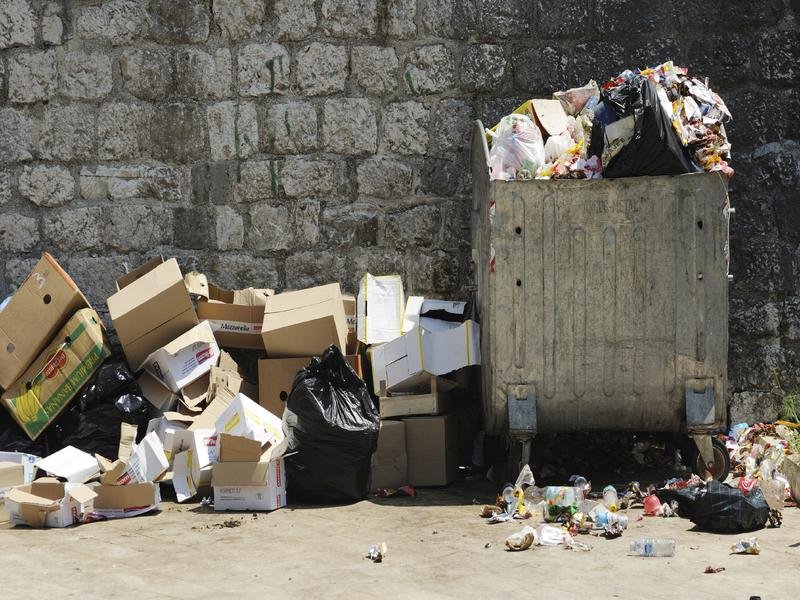cardboard: (1, 248, 113, 442), (97, 253, 198, 373), (367, 320, 487, 397), (257, 283, 357, 356), (136, 320, 225, 395), (205, 451, 297, 515), (349, 264, 417, 344), (7, 474, 101, 529), (27, 439, 134, 483), (213, 391, 284, 444)
plastic: (276, 348, 385, 507), (593, 84, 693, 177), (668, 481, 777, 538), (486, 114, 547, 180)
